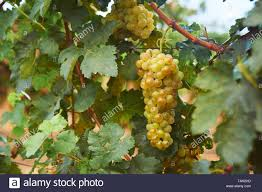grapes: (137, 52, 185, 153), (108, 1, 153, 39)
